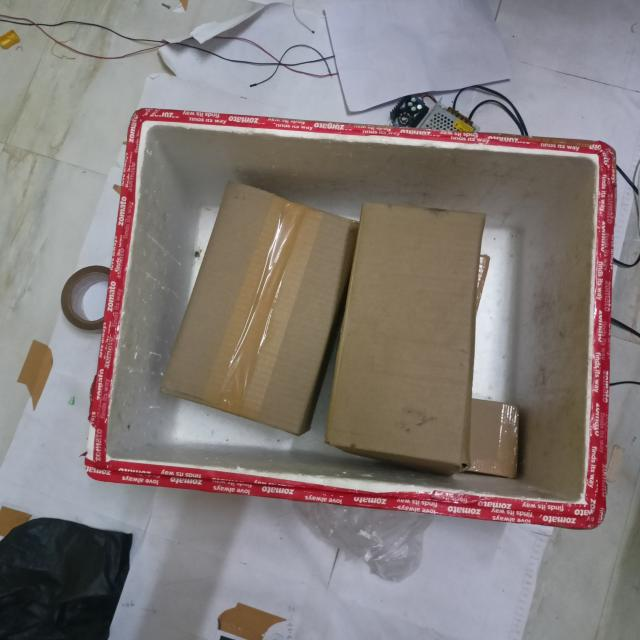box: (168, 191, 347, 437), (341, 211, 479, 467)
